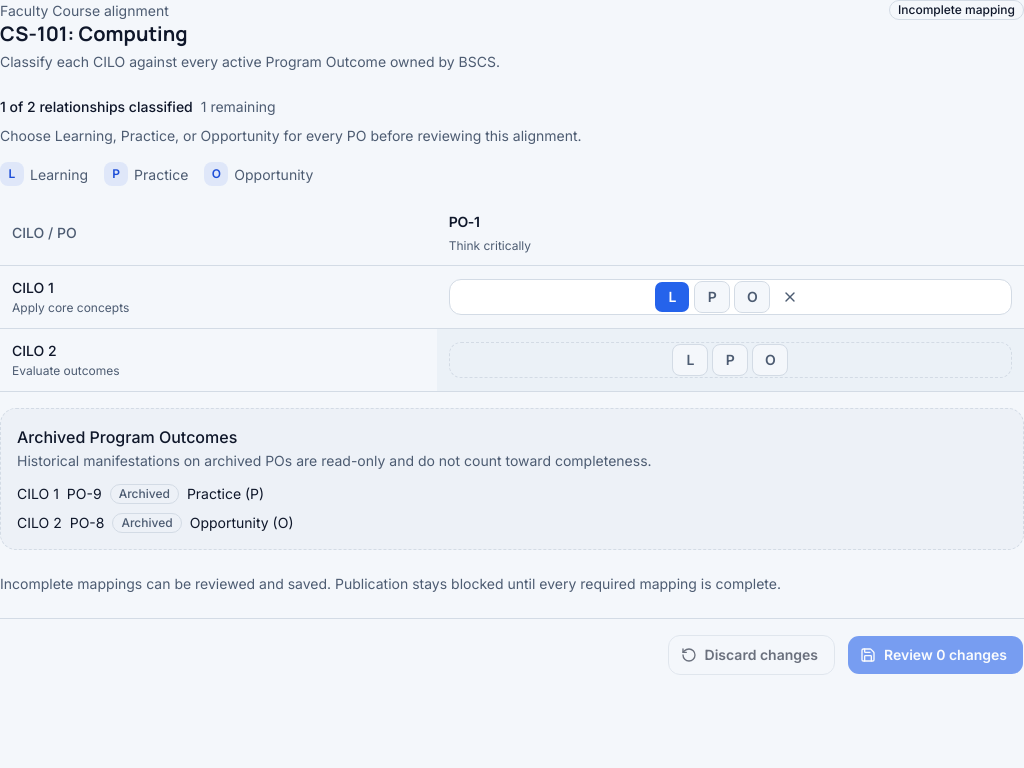
CourseAlignmentEditor › reports archived PO manifestations read-only in the review dialog
Click the button named "CILO 1, PO 1, manifestation: Practice": x=712, y=296 [694, 280, 730, 312]
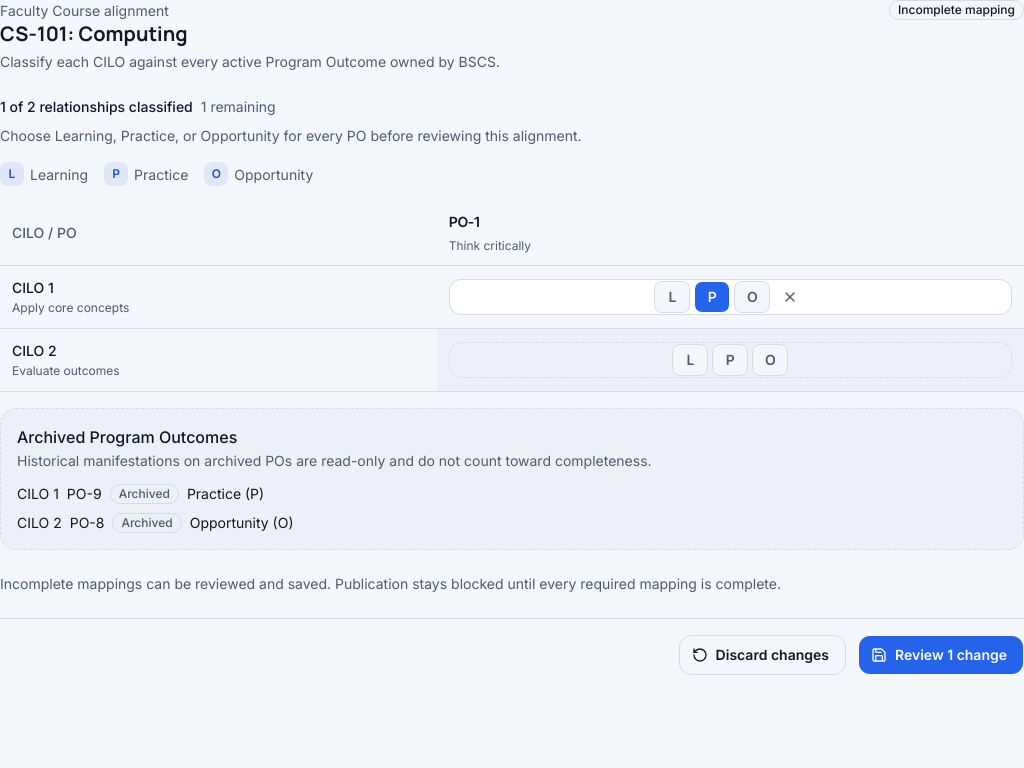
Click the button named "CILO 2, PO 1, manifestation: Learning": x=690, y=360 [672, 344, 708, 376]
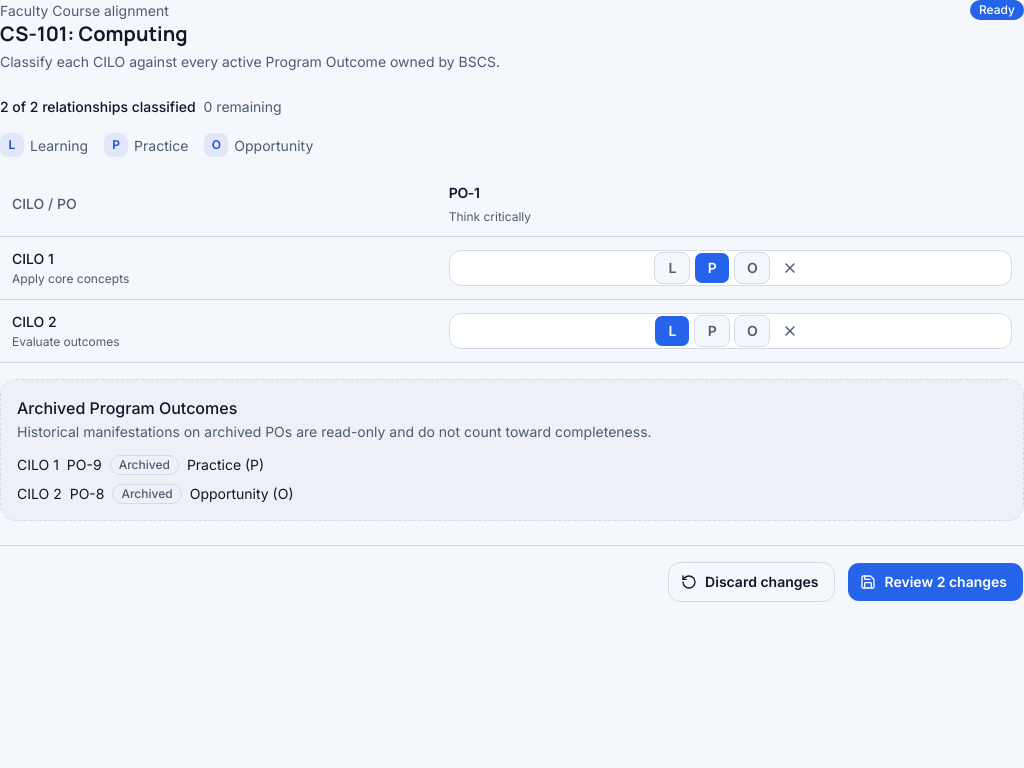
Click the button "Review 2 changes": x=936, y=582 [848, 562, 1023, 602]
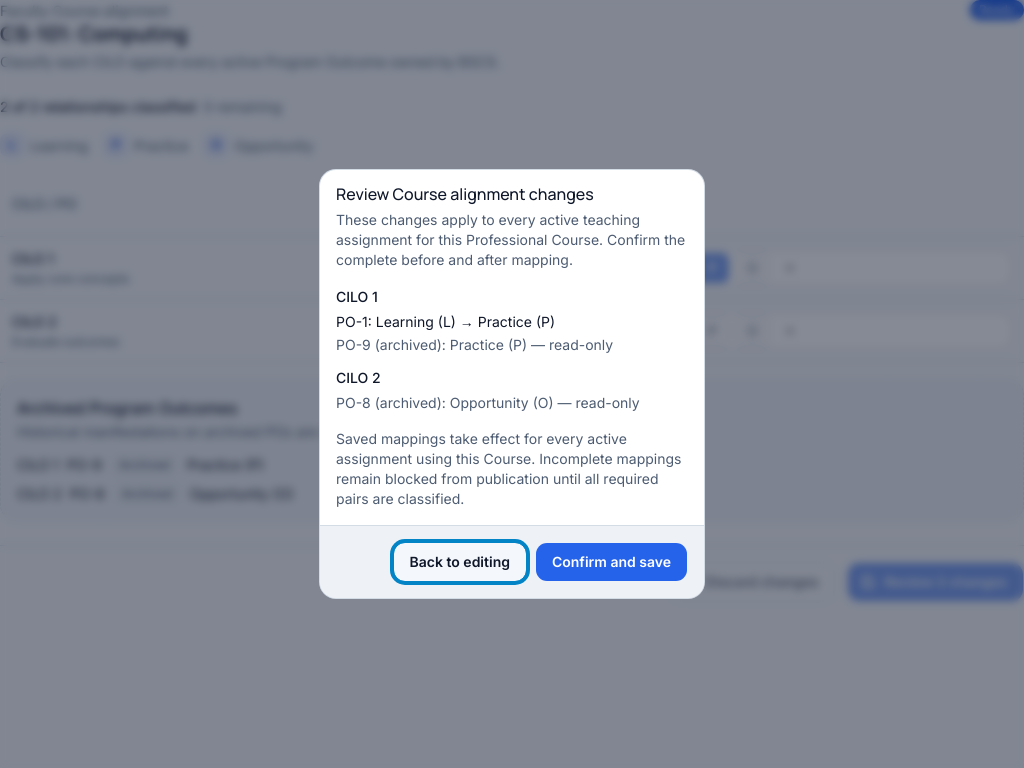
Check: the heading "Review Course alignment changes" is shown, box [336, 183, 594, 205]
Check: the list item "PO-9 (archived): Practice (P) — read-only" is shown, box [336, 336, 613, 353]
Check: the list item "PO-8 (archived): Opportunity (O) — read-only" is shown, box [336, 392, 688, 413]
